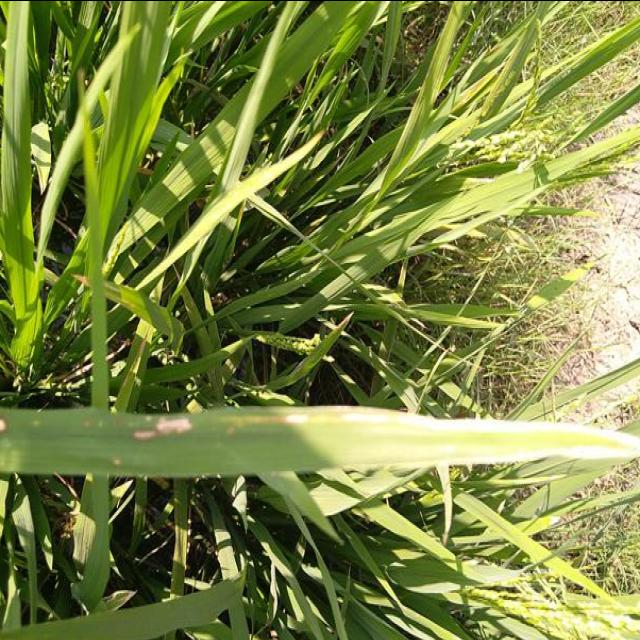Leaf Streak: (342, 411, 640, 466), (118, 406, 358, 439)
